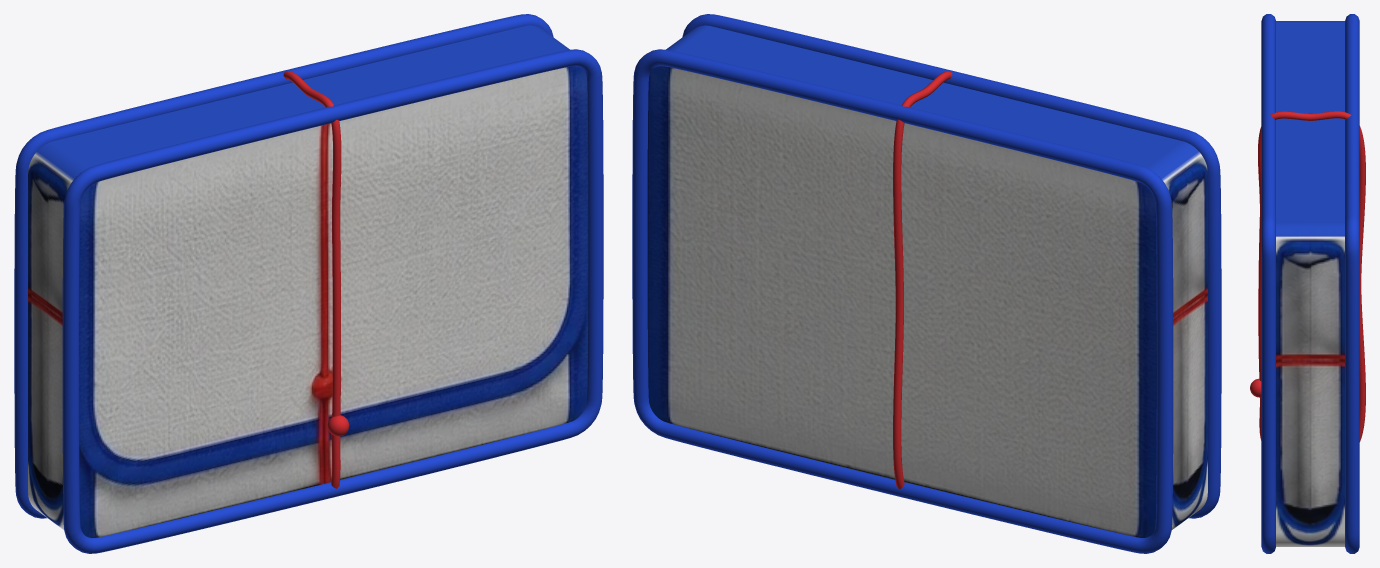
The model's file is document.glb.
3 views of the same model, side by side, from view 1: azimuth 30°, elevation 25°; view 2: azimuth 150°, elevation 25°; view 3: azimuth 270°, elevation 25° (orthographic). The views are drawn at different scales.
Parts seen in each view (by area): view 1: Body_Shell, Body_Shell_Edge, Trim_Blue_Front, Trim_Blue_Back, Cord_Elastic; view 2: Body_Shell_Back, Body_Shell_Edge, Trim_Blue_Back, Trim_Blue_Front, Cord_Elastic; view 3: Body_Shell_Edge, Trim_Blue_Front, Trim_Blue_Back, Cord_Elastic, Cord_Stopper.
Boxes of the visible parts, <box> form: Body_Shell: <box>79,66,588,537</box>; Body_Shell_Edge: <box>28,25,569,529</box>; Trim_Blue_Front: <box>62,49,603,553</box>; Trim_Blue_Back: <box>14,14,553,518</box>; Cord_Elastic: <box>283,71,341,488</box>; Body_Shell_Back: <box>647,66,1156,537</box>; Body_Shell_Edge: <box>666,25,1207,529</box>; Trim_Blue_Back: <box>632,49,1173,553</box>; Trim_Blue_Front: <box>682,14,1221,518</box>; Cord_Elastic: <box>893,71,952,489</box>; Body_Shell_Edge: <box>1276,21,1344,546</box>; Trim_Blue_Front: <box>1261,14,1275,553</box>; Trim_Blue_Back: <box>1345,14,1359,553</box>; Cord_Elastic: <box>1258,111,1365,441</box>; Cord_Stopper: <box>1250,378,1261,397</box>.
Bounding box in the file's own units: 0.2579 × 0.1823 × 0.0555.
5 materials, 3 textured.
